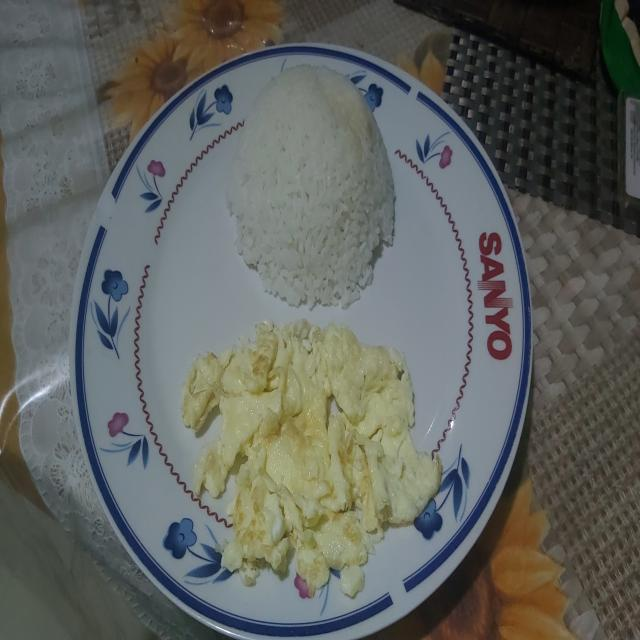Chicken -Chicken Inasal-: (227, 60, 396, 311)
